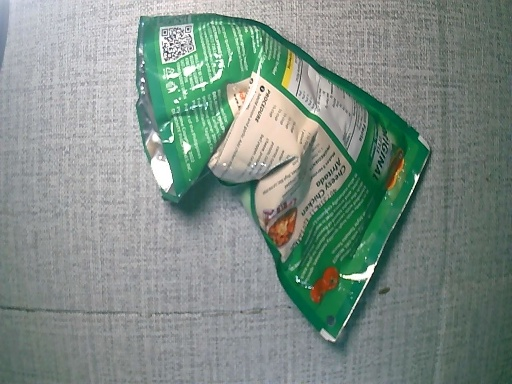plastic: (133, 11, 425, 350)
